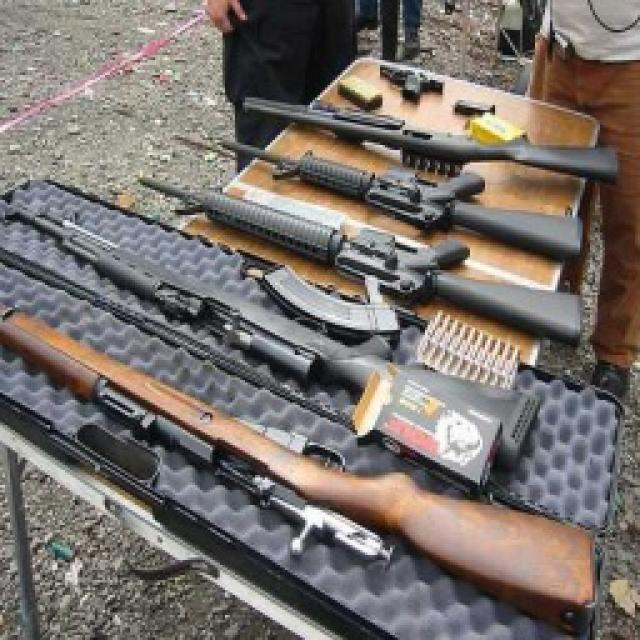long weapon: (6, 271, 613, 640), (6, 176, 574, 499), (144, 156, 607, 373), (203, 115, 602, 282)
